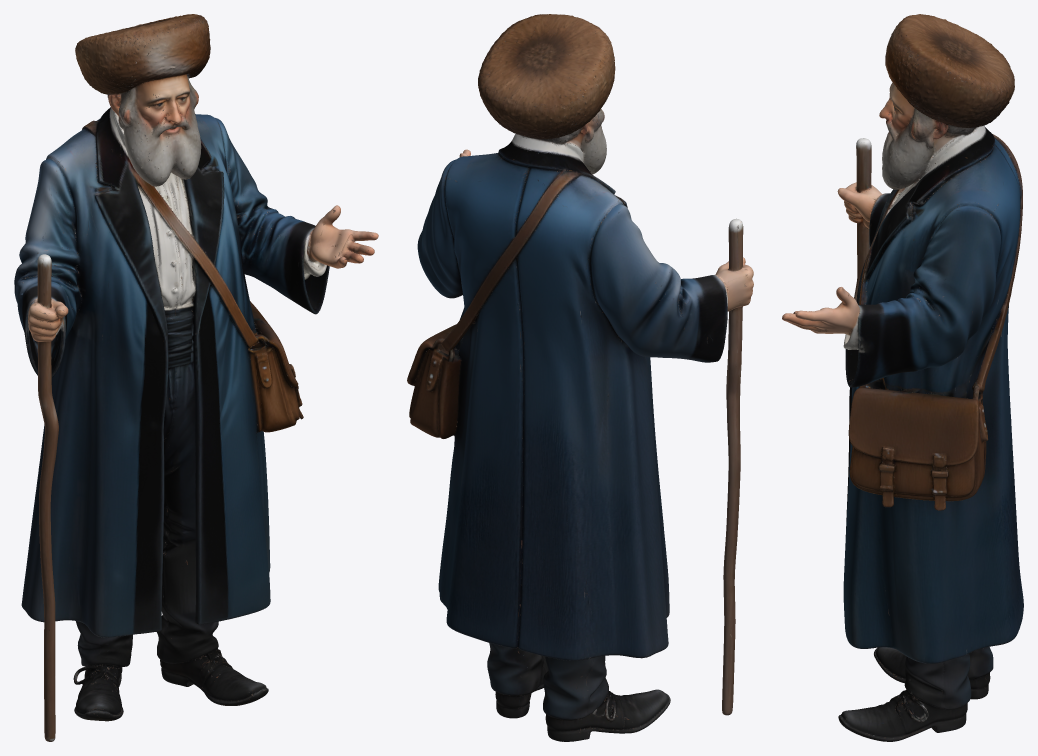
The model's file is Meshy_AI_Ba_al_Shem_Tov_0131193439_texture.glb.
The picture shows the model from 3 angles, left to right: view 1: azimuth 30°, elevation 25°; view 2: azimuth 150°, elevation 25°; view 3: azimuth 270°, elevation 25°; orthographic projection.
Bounding box in the file's own units: 0.9777 × 2 × 0.6448.
1 material, 1 textured.
